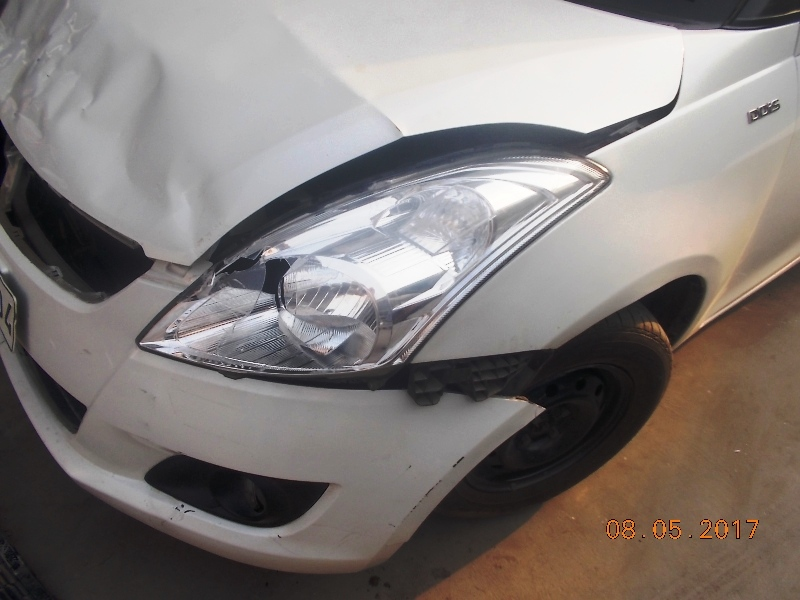Dent: (11, 6, 178, 154)
Dislocation: (392, 323, 563, 428)
